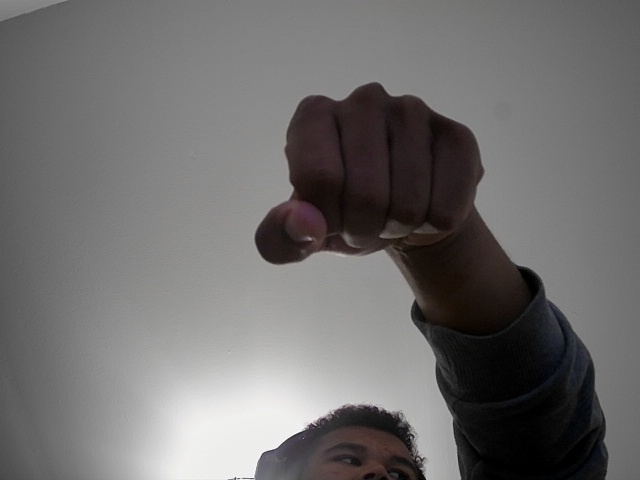Yes: (253, 78, 498, 268)
